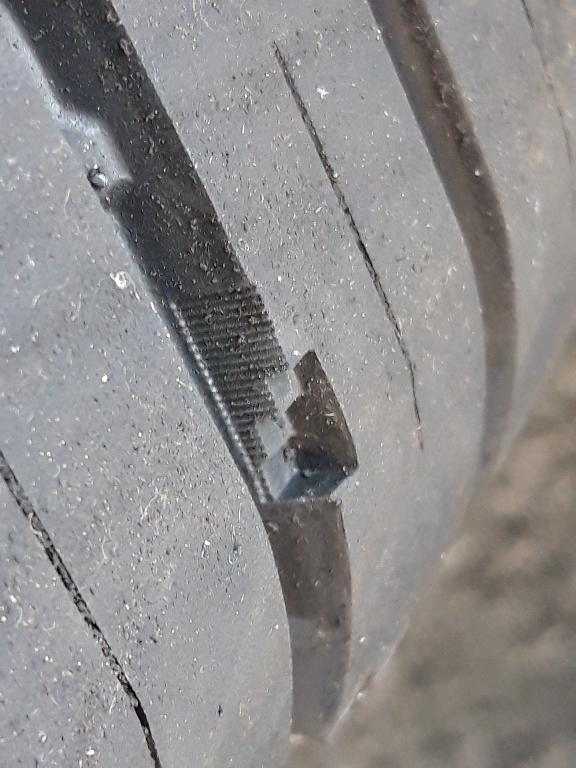temoin:75: (192, 324, 364, 511)
